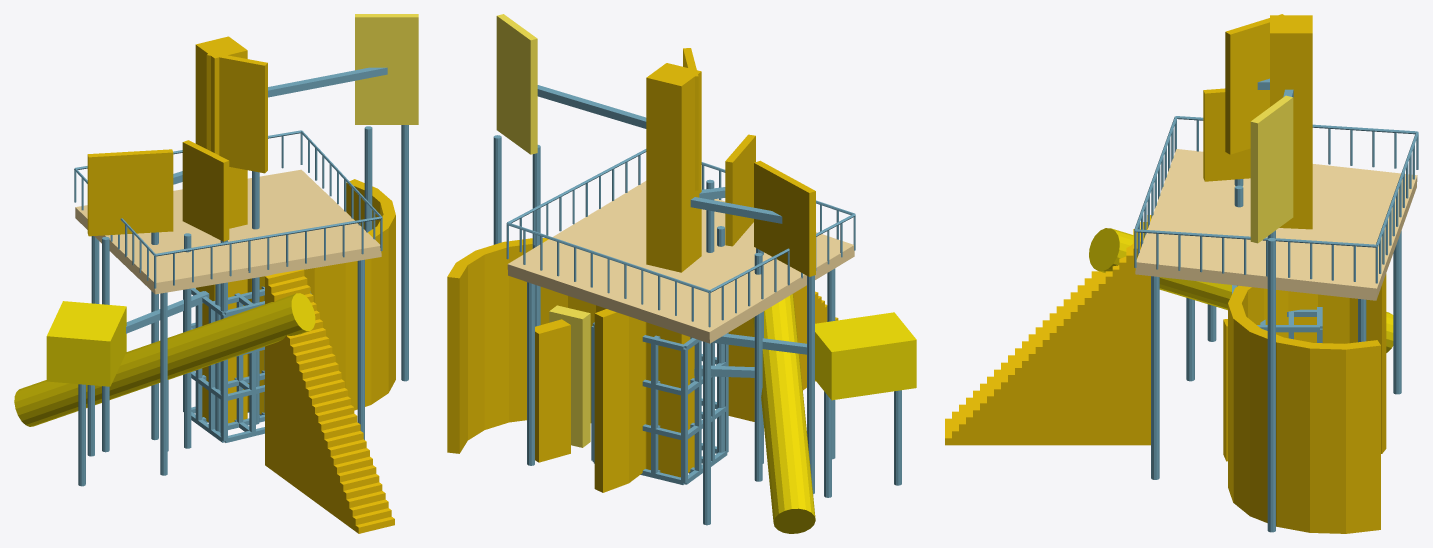
Rendered from folie_tag_026.glb.
3 renders of one model, left to right at view 1: azimuth 30°, elevation 25°; view 2: azimuth 150°, elevation 25°; view 3: azimuth 270°, elevation 25°, orthographic. The views are drawn at different scales.
Parts seen in each view (by area): view 1: folie_tag_026_line, folie_tag_026_stairs, folie_tag_026_00_plate, folie_tag_026_01_curve, folie_tag_026_03_tube, folie_tag_026_08_panel, folie_tag_026_05_panel, folie_tag_026_09_block, folie_tag_026_06_panel, folie_tag_026_core, folie_tag_026_02_cage, folie_tag_026_11_panel; view 2: folie_tag_026_01_curve, folie_tag_026_line, folie_tag_026_00_plate, folie_tag_026_core, folie_tag_026_03_tube, folie_tag_026_09_block, folie_tag_026_02_cage, folie_tag_026_08_panel, folie_tag_026_05_panel, folie_tag_026_07_fin, folie_tag_026_stairs, folie_tag_026_04_fin (+2 smaller); view 3: folie_tag_026_01_curve, folie_tag_026_stairs, folie_tag_026_00_plate, folie_tag_026_line, folie_tag_026_core, folie_tag_026_05_panel, folie_tag_026_06_panel, folie_tag_026_03_tube, folie_tag_026_11_panel, folie_tag_026_02_cage, folie_tag_026_10_fin.
Part boxes in pixels (x1,y1,x2,y2): folie_tag_026_line: (74,67,408,486); folie_tag_026_stairs: (265,269,394,533); folie_tag_026_00_plate: (75,169,381,294); folie_tag_026_01_curve: (247,179,395,414); folie_tag_026_03_tube: (14,293,315,426); folie_tag_026_08_panel: (87,149,173,236); folie_tag_026_05_panel: (355,14,418,124); folie_tag_026_09_block: (46,301,126,386); folie_tag_026_06_panel: (206,54,267,173); folie_tag_026_core: (195,36,247,423); folie_tag_026_02_cage: (183,286,311,442); folie_tag_026_11_panel: (182,140,229,241); folie_tag_026_01_curve: (447,238,646,492); folie_tag_026_line: (493,85,901,525); folie_tag_026_00_plate: (507,181,854,343); folie_tag_026_core: (646,63,701,477); folie_tag_026_03_tube: (753,294,815,533); folie_tag_026_09_block: (815,312,916,400); folie_tag_026_02_cage: (591,322,728,484); folie_tag_026_08_panel: (754,160,815,276); folie_tag_026_05_panel: (496,14,537,154); folie_tag_026_07_fin: (535,319,570,462); folie_tag_026_stairs: (728,285,838,421); folie_tag_026_04_fin: (549,305,590,447); folie_tag_026_01_curve: (1228,273,1386,533); folie_tag_026_stairs: (945,215,1151,445); folie_tag_026_00_plate: (1135,149,1417,300); folie_tag_026_line: (1134,78,1418,532); folie_tag_026_core: (1270,15,1312,229); folie_tag_026_05_panel: (1250,95,1293,243); folie_tag_026_06_panel: (1225,14,1286,154); folie_tag_026_03_tube: (1089,228,1393,352); folie_tag_026_11_panel: (1203,88,1250,181); folie_tag_026_02_cage: (1232,285,1322,342); folie_tag_026_10_fin: (1223,319,1227,461).
Size of the model in its own units: 12.76 by 11.78 by 12.23.
